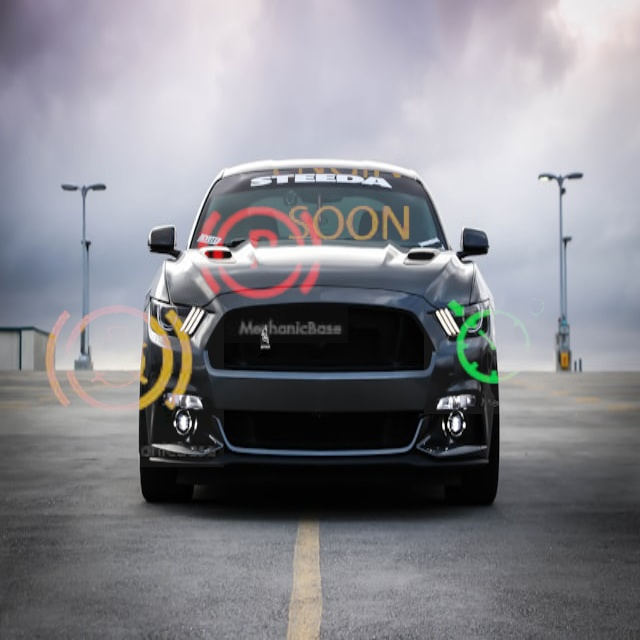symbol: (12, 255, 224, 467), (245, 65, 443, 263), (170, 165, 348, 343), (424, 269, 569, 414)
